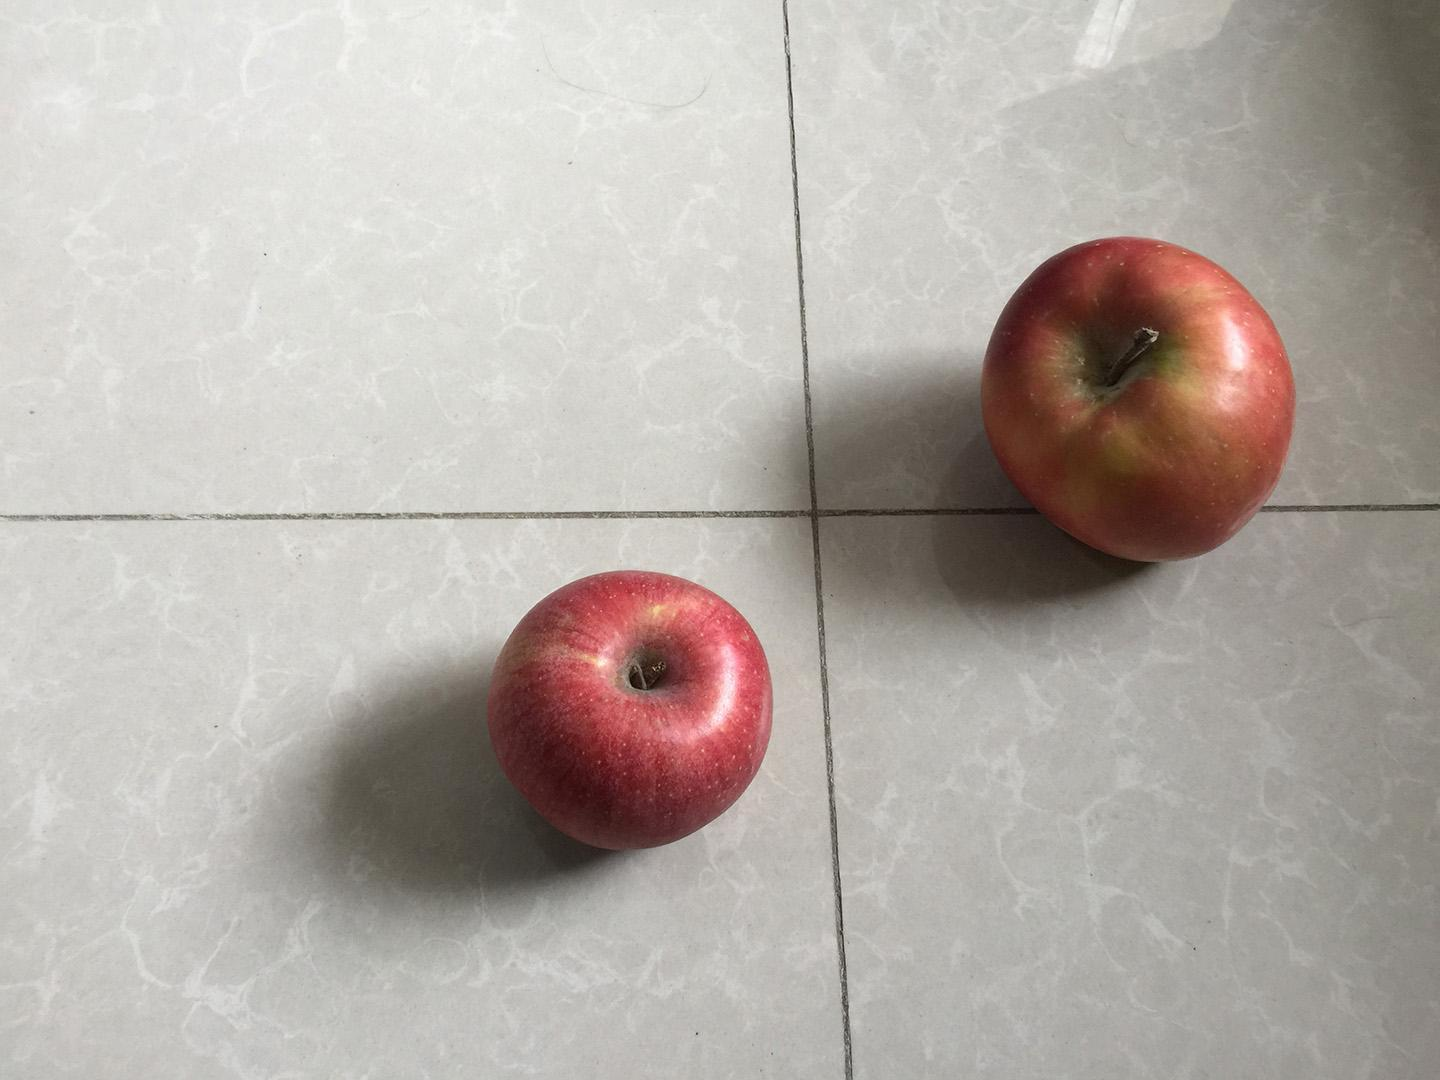apple: (972, 229, 1306, 572), (480, 562, 782, 857)
